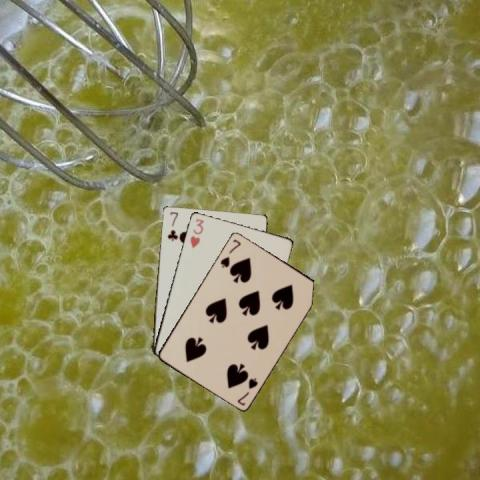3h: (187, 216, 205, 250)
7c: (165, 209, 179, 242)
7s: (217, 236, 242, 269), (234, 374, 259, 406)
